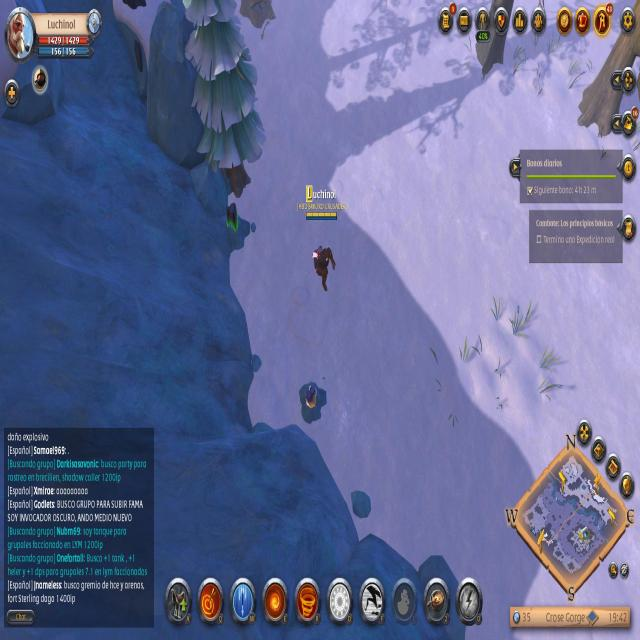piedra_cobre: (299, 382, 327, 424)
